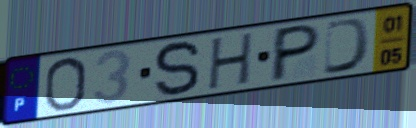3: (91, 47, 137, 108)
D: (320, 15, 374, 77)
H: (205, 29, 257, 93)
O: (42, 54, 90, 113)
P: (267, 21, 324, 85)
S: (152, 38, 203, 100)
